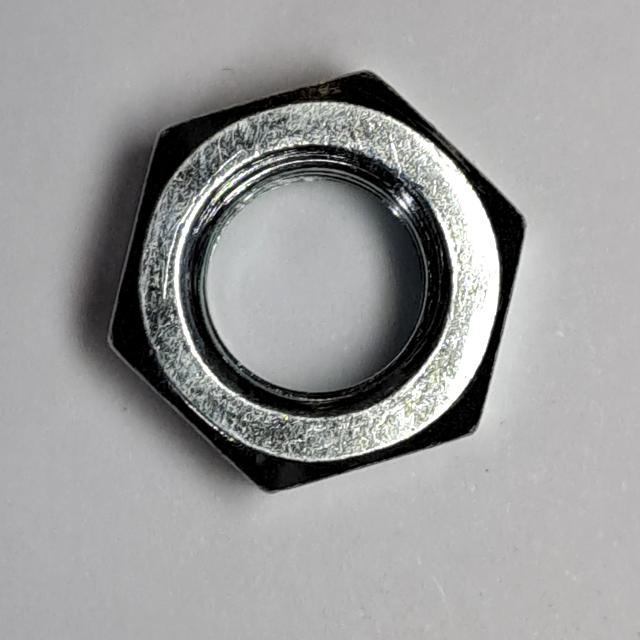Excellent: (89, 51, 539, 511)
